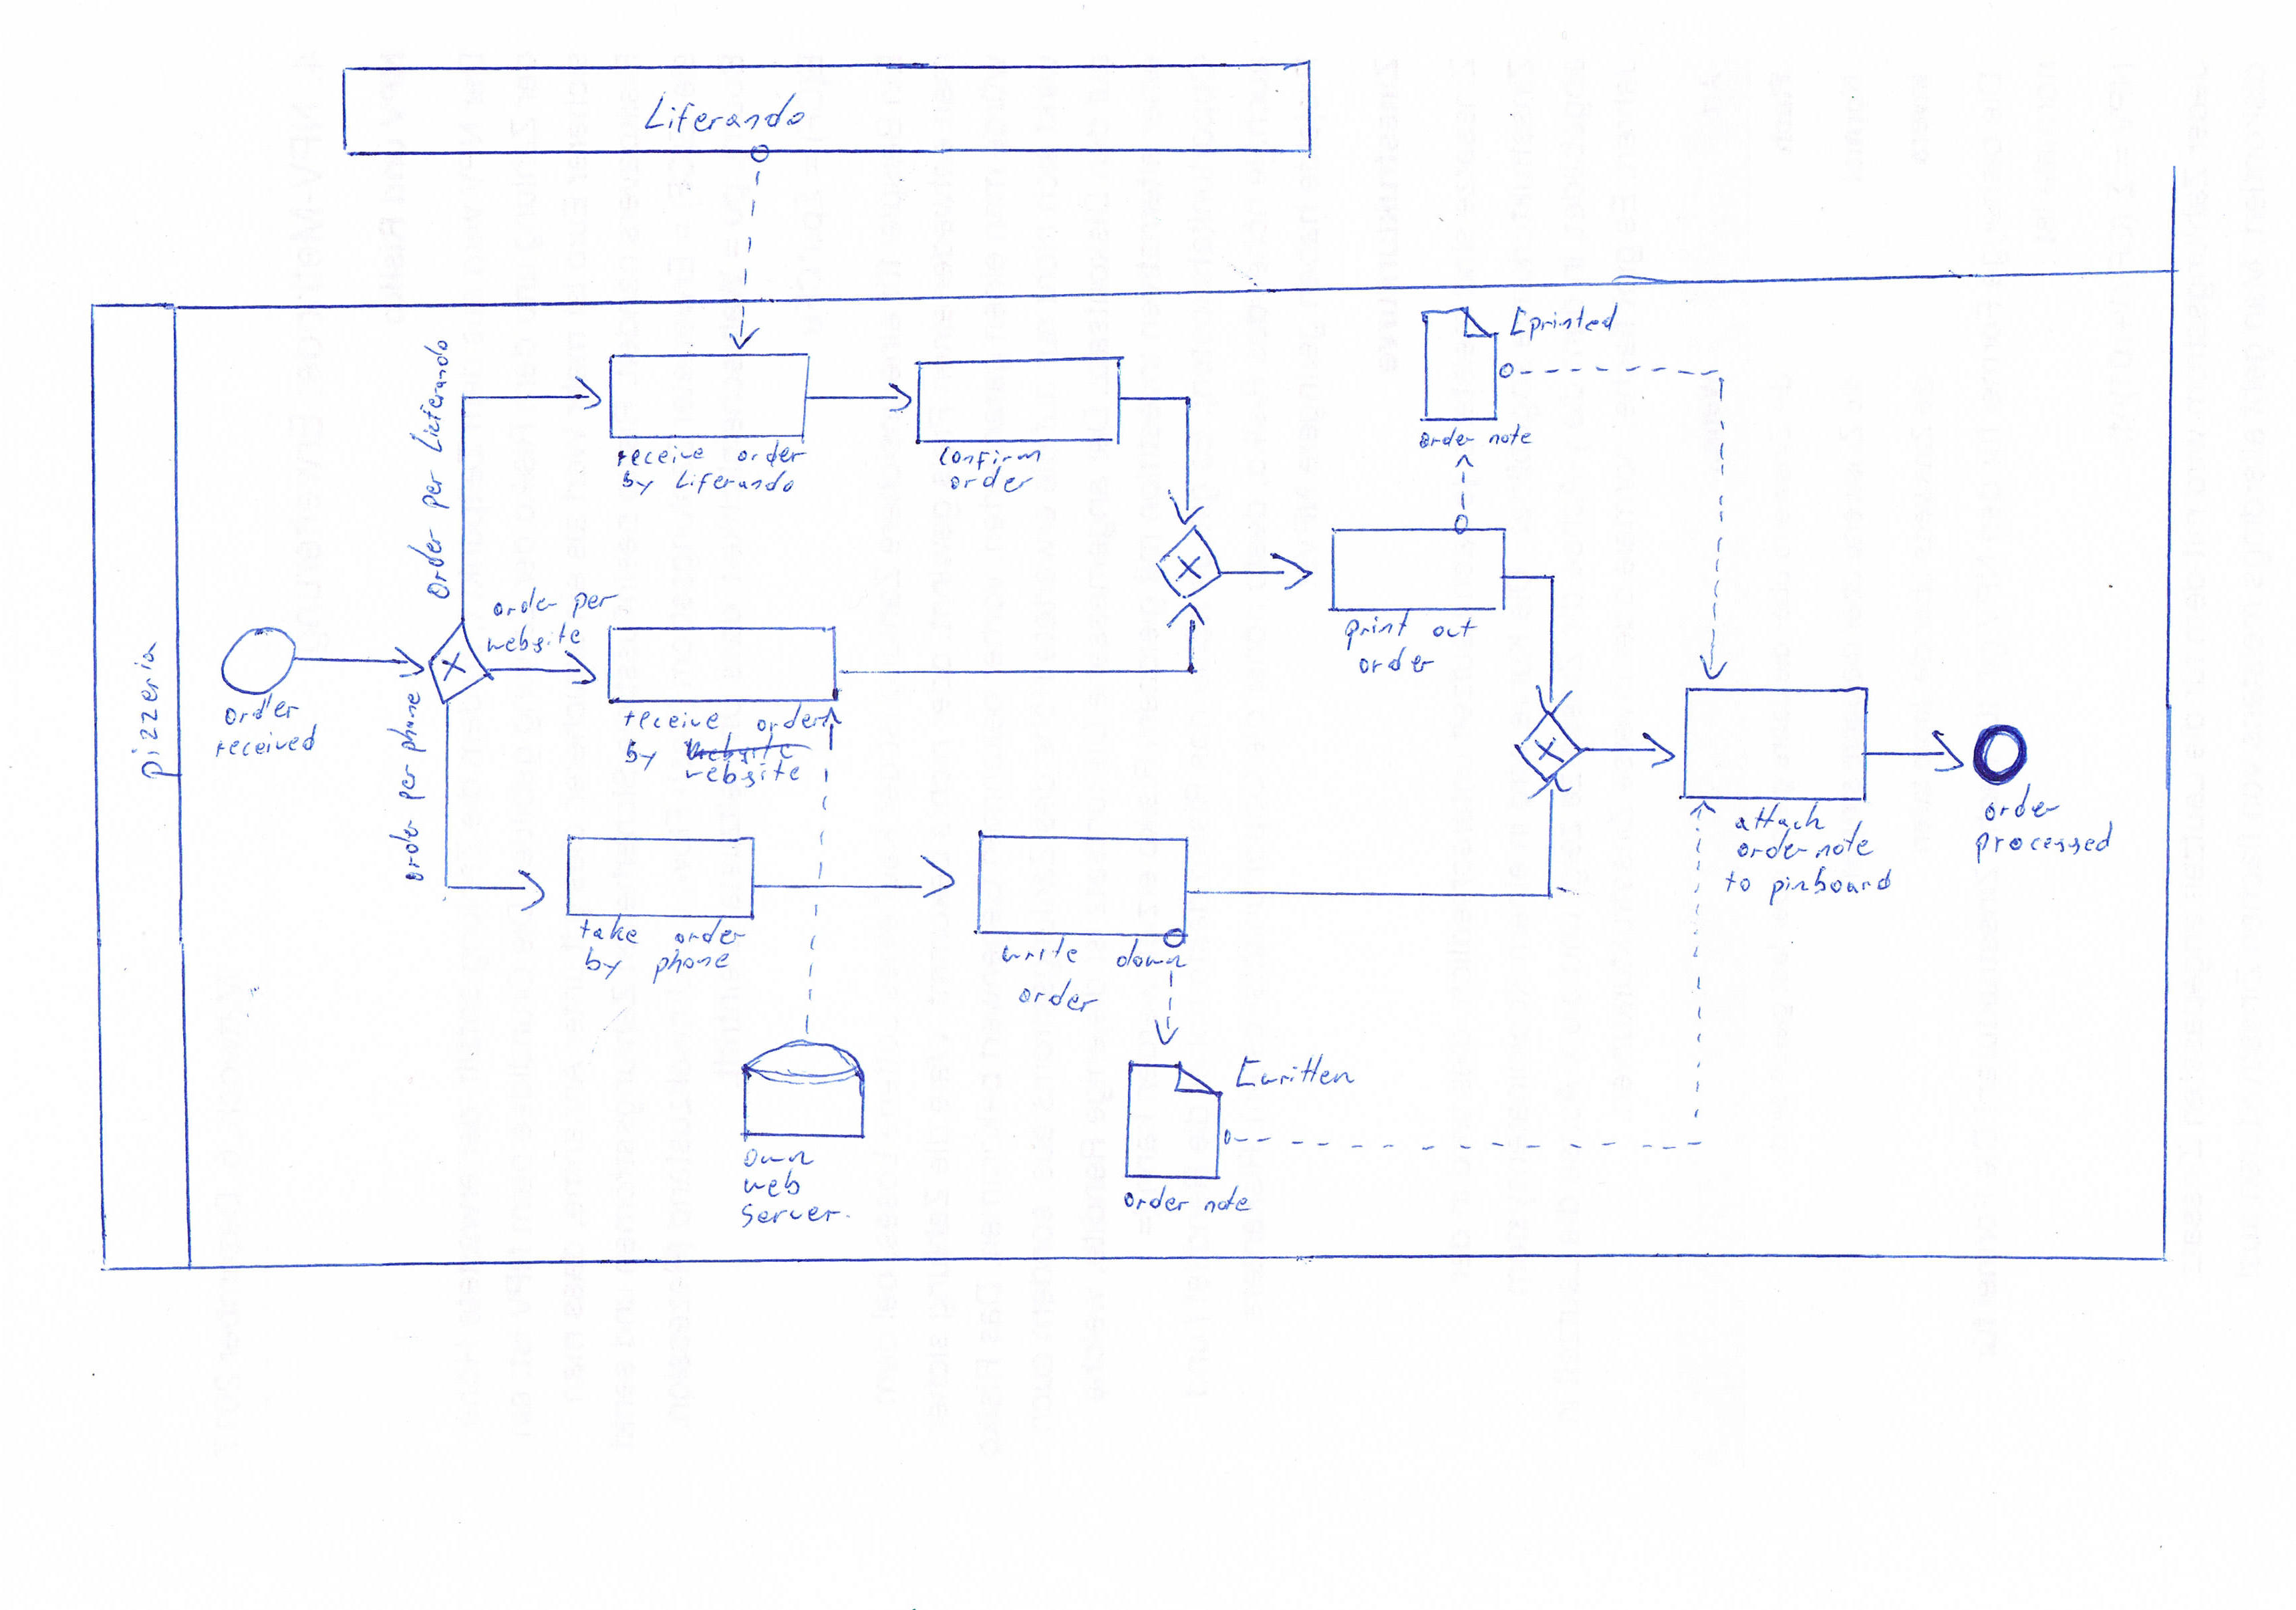Lieferando: (408, 337, 450, 455)
Liferando: (642, 91, 806, 134), (673, 467, 797, 495)
Order: (405, 523, 452, 600), (1418, 429, 1479, 454)
Own: (741, 1143, 815, 1170)
Server: (731, 1198, 853, 1228)
[printed: (1507, 304, 1623, 340)
[written: (1228, 1054, 1357, 1092)
attach: (1727, 801, 1828, 832)
by: (616, 736, 665, 773), (579, 945, 621, 984), (618, 469, 658, 497)
confirm: (937, 443, 1045, 471)
down: (1117, 938, 1188, 973)
note: (1813, 830, 1874, 870), (1202, 1184, 1254, 1219), (1486, 422, 1535, 448)
order: (1980, 785, 2066, 825), (1014, 979, 1103, 1017), (947, 466, 1040, 495), (389, 811, 426, 884), (490, 586, 562, 621), (1734, 832, 1809, 865), (223, 694, 302, 726), (1357, 645, 1439, 675), (755, 701, 825, 734), (1117, 1188, 1192, 1218), (673, 921, 748, 949), (735, 440, 808, 467)
out: (1429, 614, 1479, 642)
per: (569, 588, 618, 619), (396, 757, 429, 802), (419, 467, 452, 513)
phone: (386, 677, 426, 759), (649, 949, 733, 987)
pinboard: (1766, 865, 1895, 907)
pizzeria: (129, 642, 176, 781)
print: (1342, 611, 1413, 649)
processed: (1971, 823, 2116, 863)
receive: (623, 706, 726, 734), (614, 445, 708, 469)
received: (213, 724, 323, 759)
take: (571, 916, 647, 945)
to: (1719, 863, 1757, 898)
web: (740, 1167, 806, 1198)
website: (682, 764, 806, 792), (483, 621, 584, 654)
write: (991, 937, 1089, 965)
